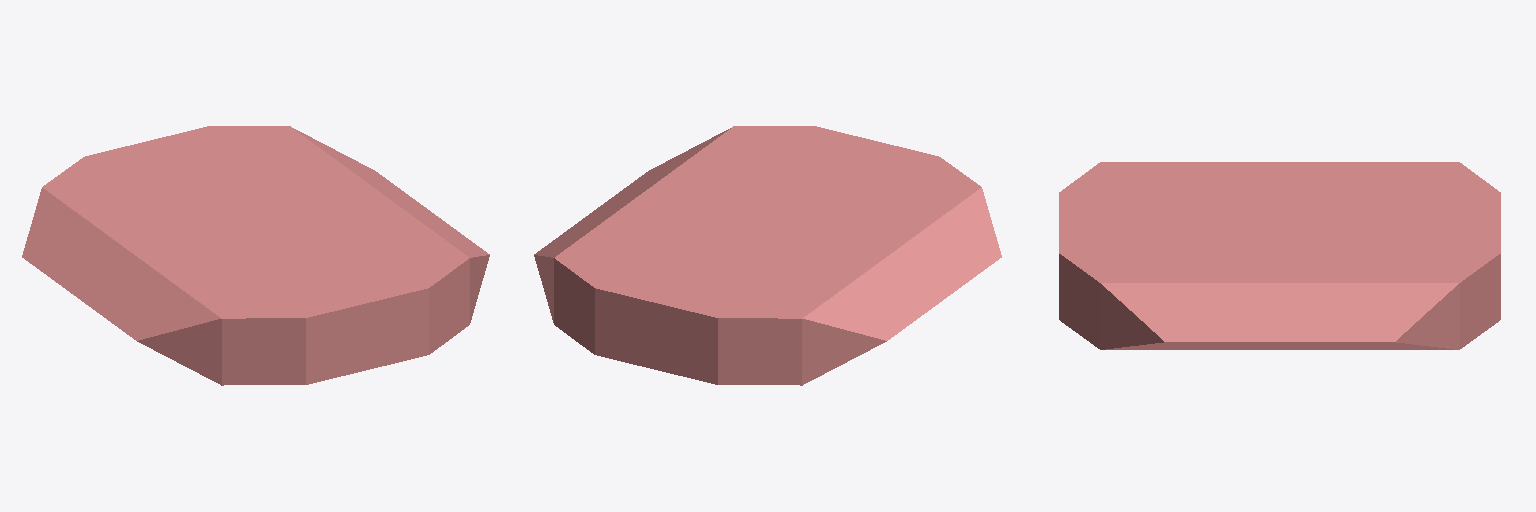
The model's file is ship_trail.obj.
3 renders of one model, left to right at view 1: azimuth 30°, elevation 25°; view 2: azimuth 150°, elevation 25°; view 3: azimuth 270°, elevation 25°, orthographic.
Visible parts, largest first — view 1: Box026; view 2: Box026; view 3: Box026.
Part boxes in pixels (x1,y1,x2,y2): Box026: (22,126,489,385); Box026: (534,126,1001,385); Box026: (1059,162,1500,349).
Bounding box in the file's own units: 16.52 × 2.99 × 17.89.